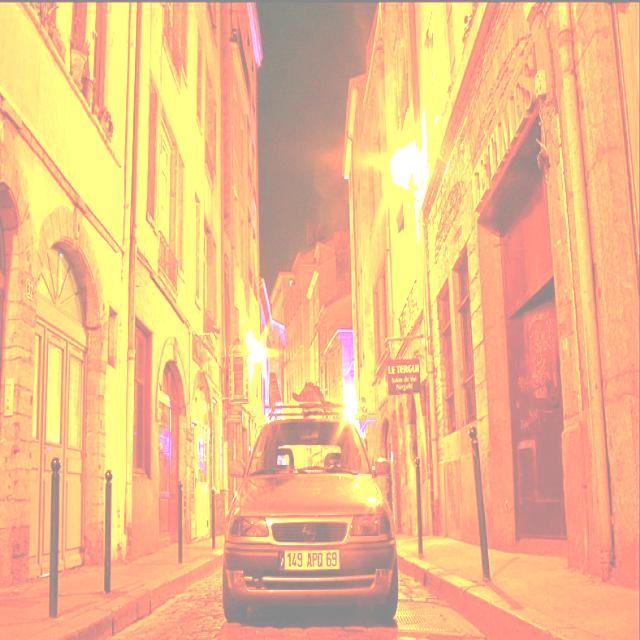Car: (218, 400, 398, 632)
